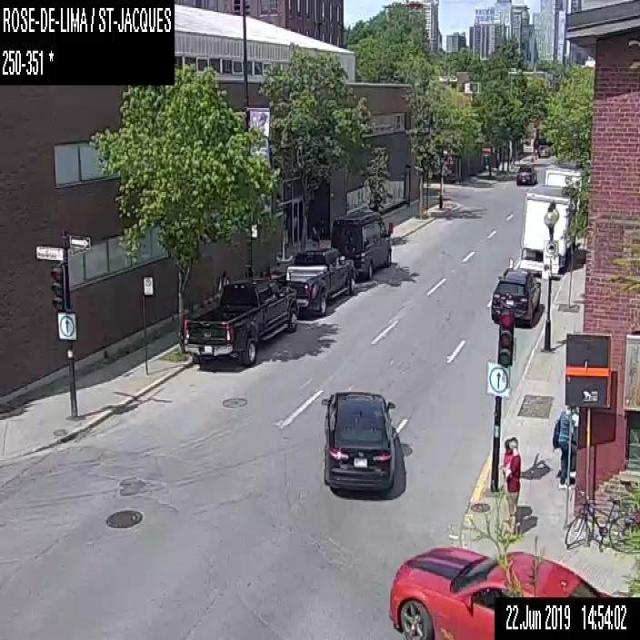pedestrian: (498, 436, 520, 537), (550, 406, 577, 486), (497, 438, 513, 480)
vehicle: (388, 542, 614, 638), (181, 271, 296, 365), (320, 385, 395, 492), (514, 183, 576, 274), (285, 244, 357, 318), (331, 212, 394, 276), (488, 268, 542, 324), (516, 162, 538, 186), (537, 144, 549, 157)
